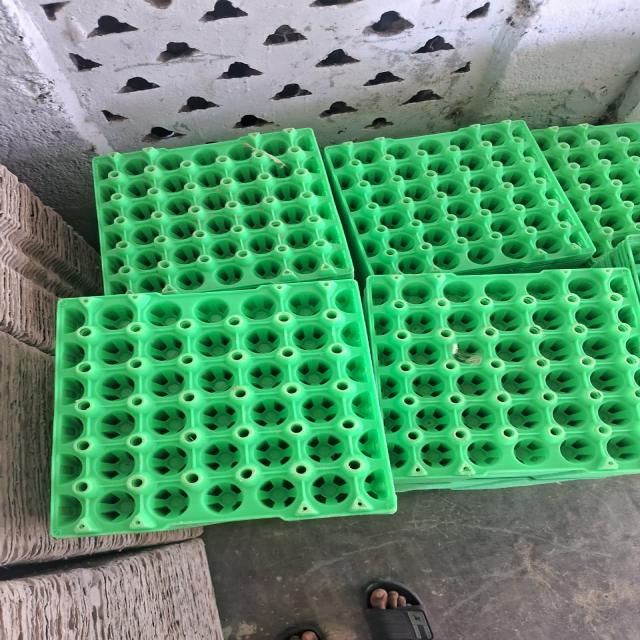egg_tray: (52, 280, 395, 536), (366, 270, 639, 482), (94, 129, 352, 293), (325, 120, 592, 274), (533, 123, 639, 257), (395, 466, 611, 492), (395, 468, 611, 492), (396, 468, 611, 492), (395, 472, 609, 492), (593, 234, 639, 296), (613, 235, 639, 296), (615, 466, 638, 474), (616, 467, 637, 474), (617, 470, 635, 474)
